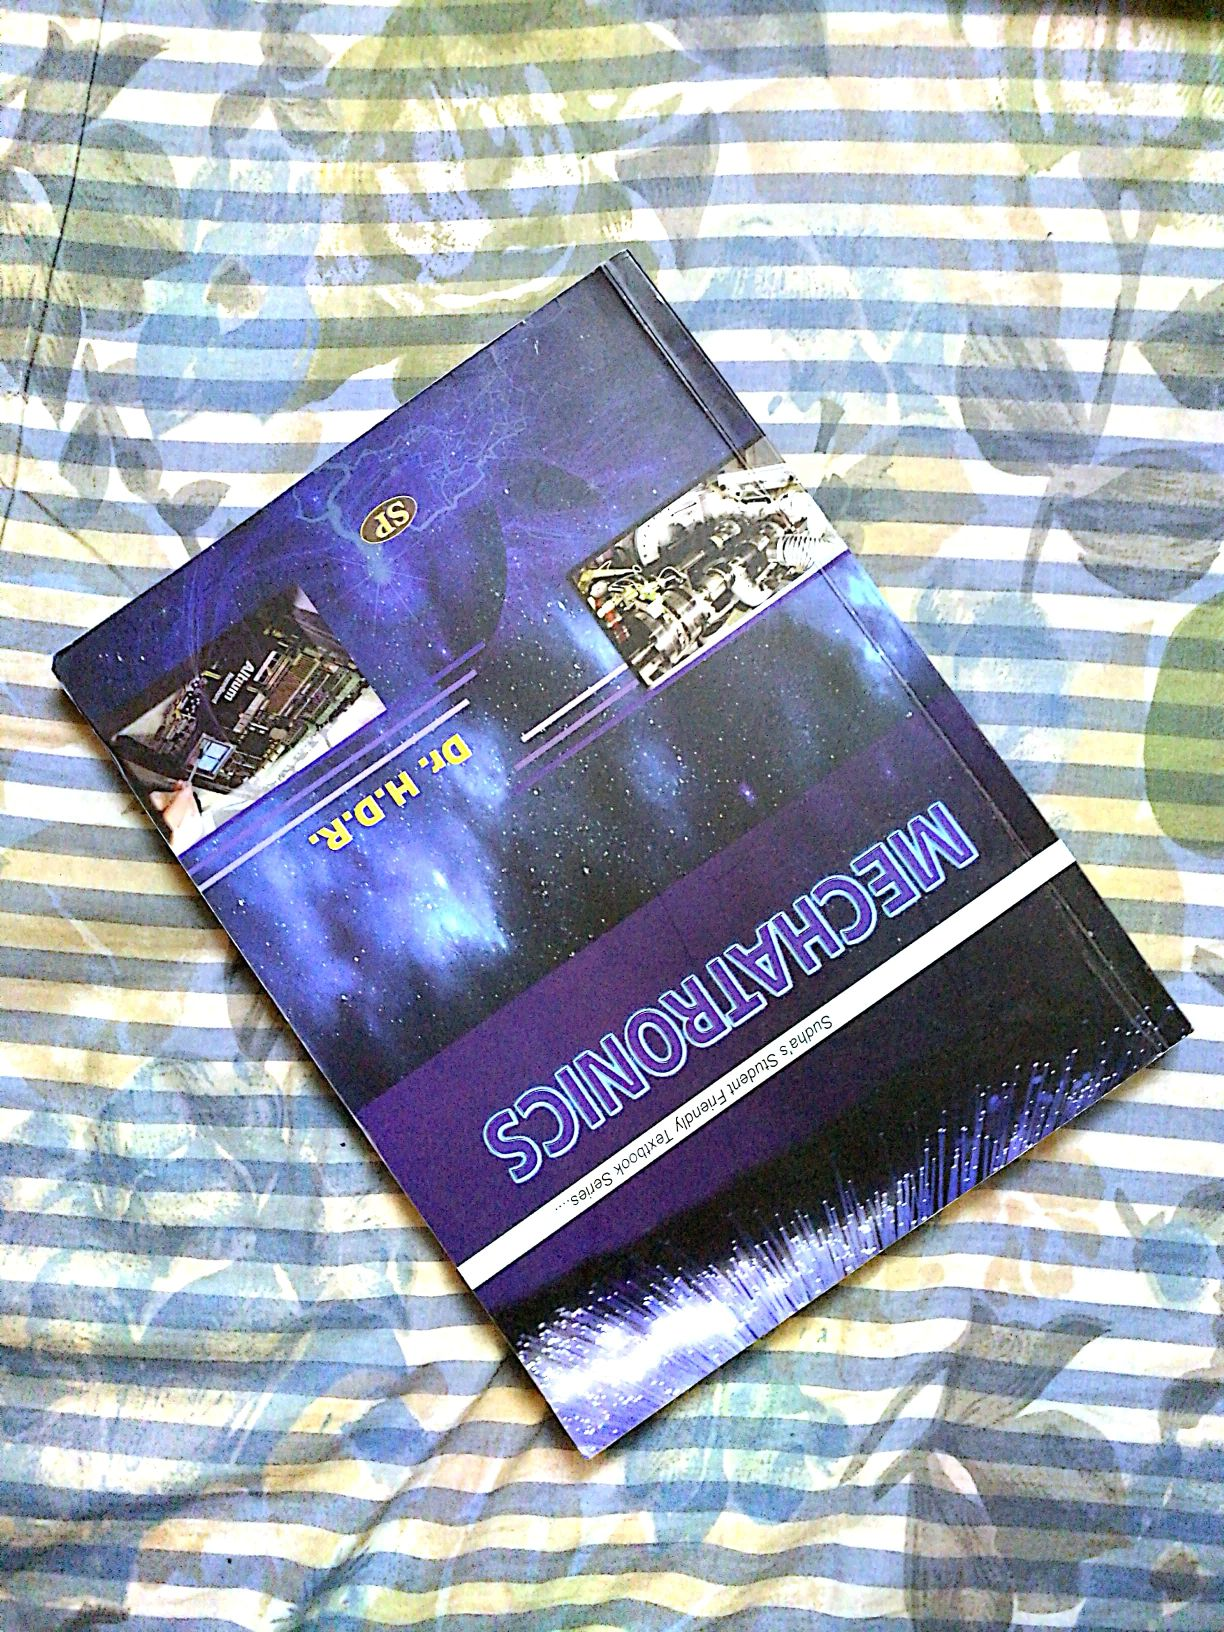mechatronics: (84, 269, 1038, 1444)
